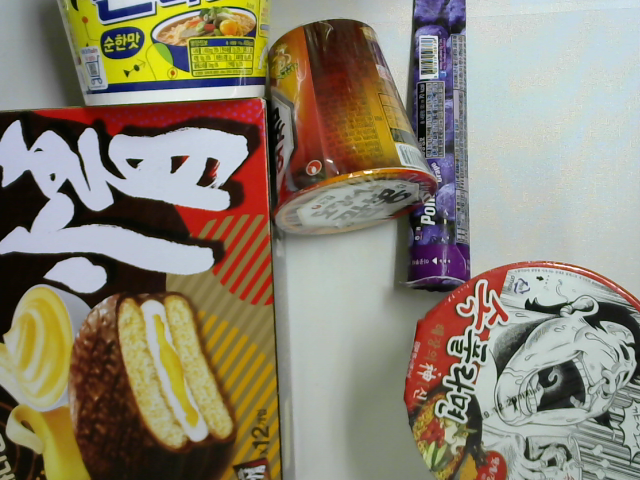Choco_Pie_Banana: (1, 88, 296, 477)
Hejangpul: (401, 258, 639, 480)
Jinlamyeon_Mild_Taste_Large_Cup: (51, 1, 286, 107)
Ojjam: (261, 14, 441, 241)
Polapo_Grape: (391, 1, 479, 297)
